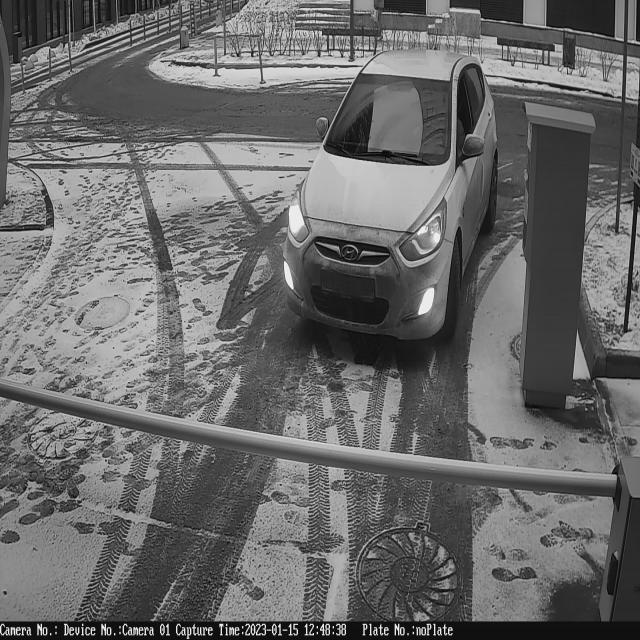car-plate-numbers: (319, 264, 380, 307)
